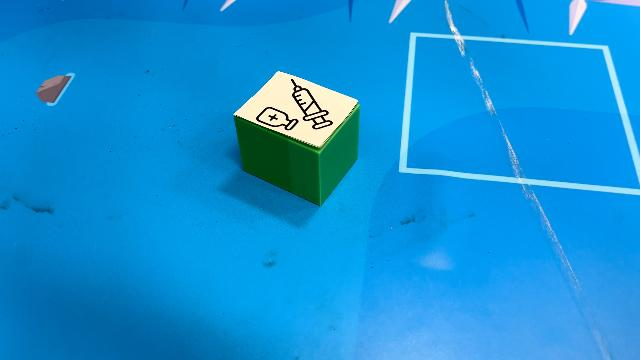syringe: (234, 71, 360, 206)
